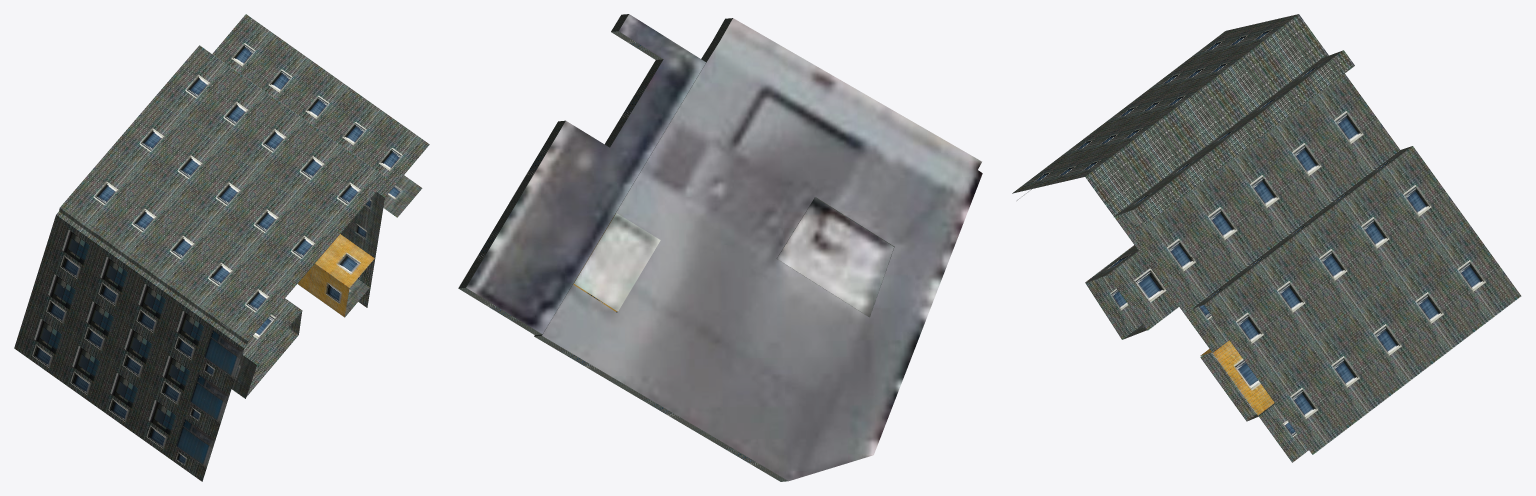
3 views of the same model, side by side, from view 1: azimuth 30°, elevation 25°; view 2: azimuth 150°, elevation 25°; view 3: azimuth 270°, elevation 25° (orthographic). The views are drawn at different scales.
Bounding box in the file's own units: 33.17 × 32.55 × 31.85.
10 materials, 10 textured.
